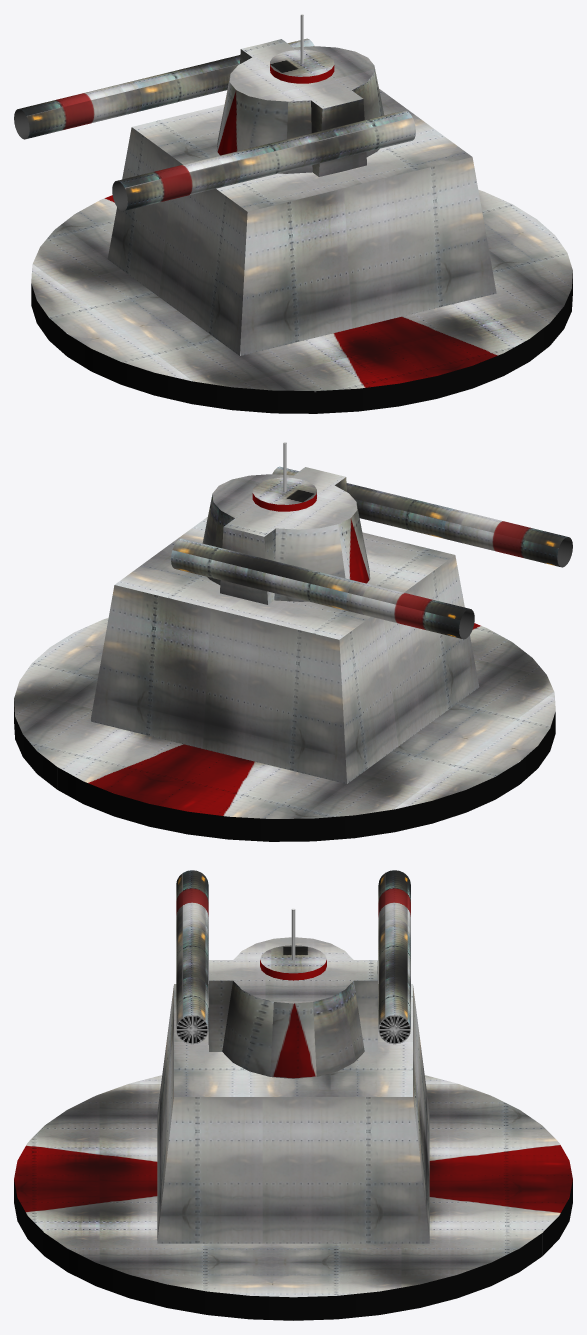
Rendered from towerA.fbx.
3 views of the same model, one above another, from view 1: azimuth 30°, elevation 25°; view 2: azimuth 150°, elevation 25°; view 3: azimuth 270°, elevation 25° (orthographic). The views are drawn at different scales.
Visible parts, largest first — view 1: polySurface1; view 2: polySurface1; view 3: polySurface1.
Boxes of the visible parts, <box> form: polySurface1: <box>14,14,572,413</box>; polySurface1: <box>14,442,572,841</box>; polySurface1: <box>14,870,572,1320</box>.
Size of the model in its own units: 15.96 by 9.24 by 15.96.
Materials: 1 (1 with a texture image).
